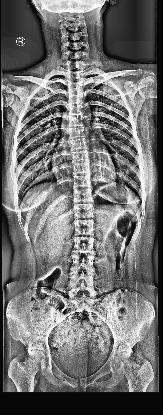Vertebrae: (71, 256, 95, 272), (73, 238, 95, 254), (70, 272, 94, 286), (74, 205, 94, 219), (74, 221, 94, 235), (73, 190, 93, 202), (73, 176, 92, 188), (66, 105, 86, 115), (73, 164, 91, 175), (68, 128, 86, 138), (70, 140, 88, 150), (71, 152, 89, 162), (68, 61, 84, 71), (68, 82, 84, 92), (68, 94, 84, 104), (68, 117, 84, 127), (66, 72, 84, 80)
